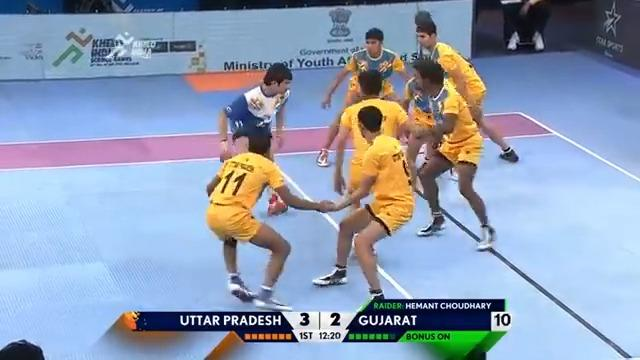Player: (204, 149, 349, 311), (311, 105, 416, 301), (409, 58, 496, 251), (410, 10, 519, 163), (316, 27, 410, 167), (332, 69, 412, 211)
Raider: (217, 62, 293, 215)
referee: (501, 0, 551, 52), (0, 338, 45, 359)
